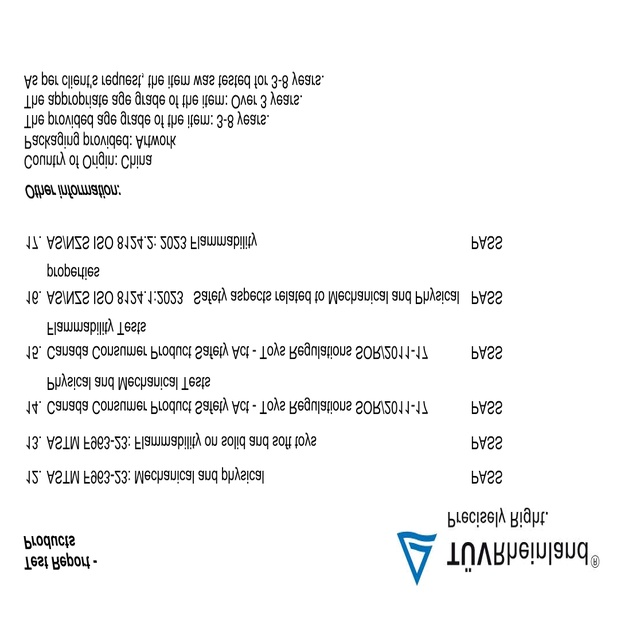tuv_rheinland: (393, 529, 603, 588)
